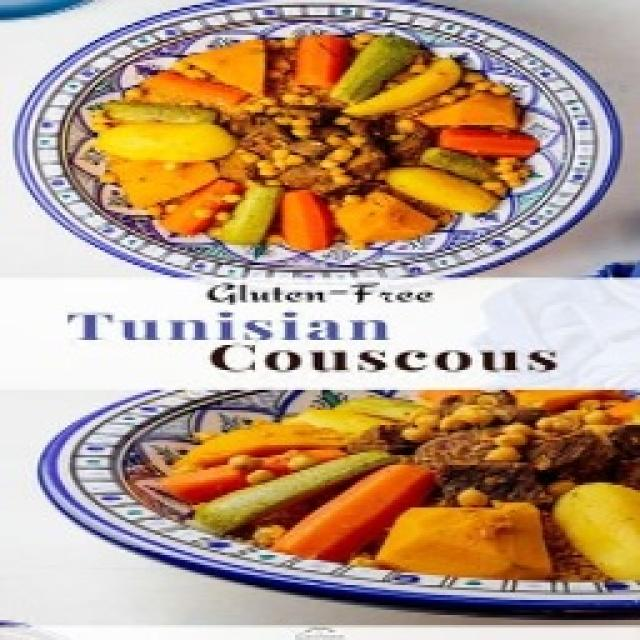Couscous: (85, 25, 542, 255), (158, 392, 640, 585)
